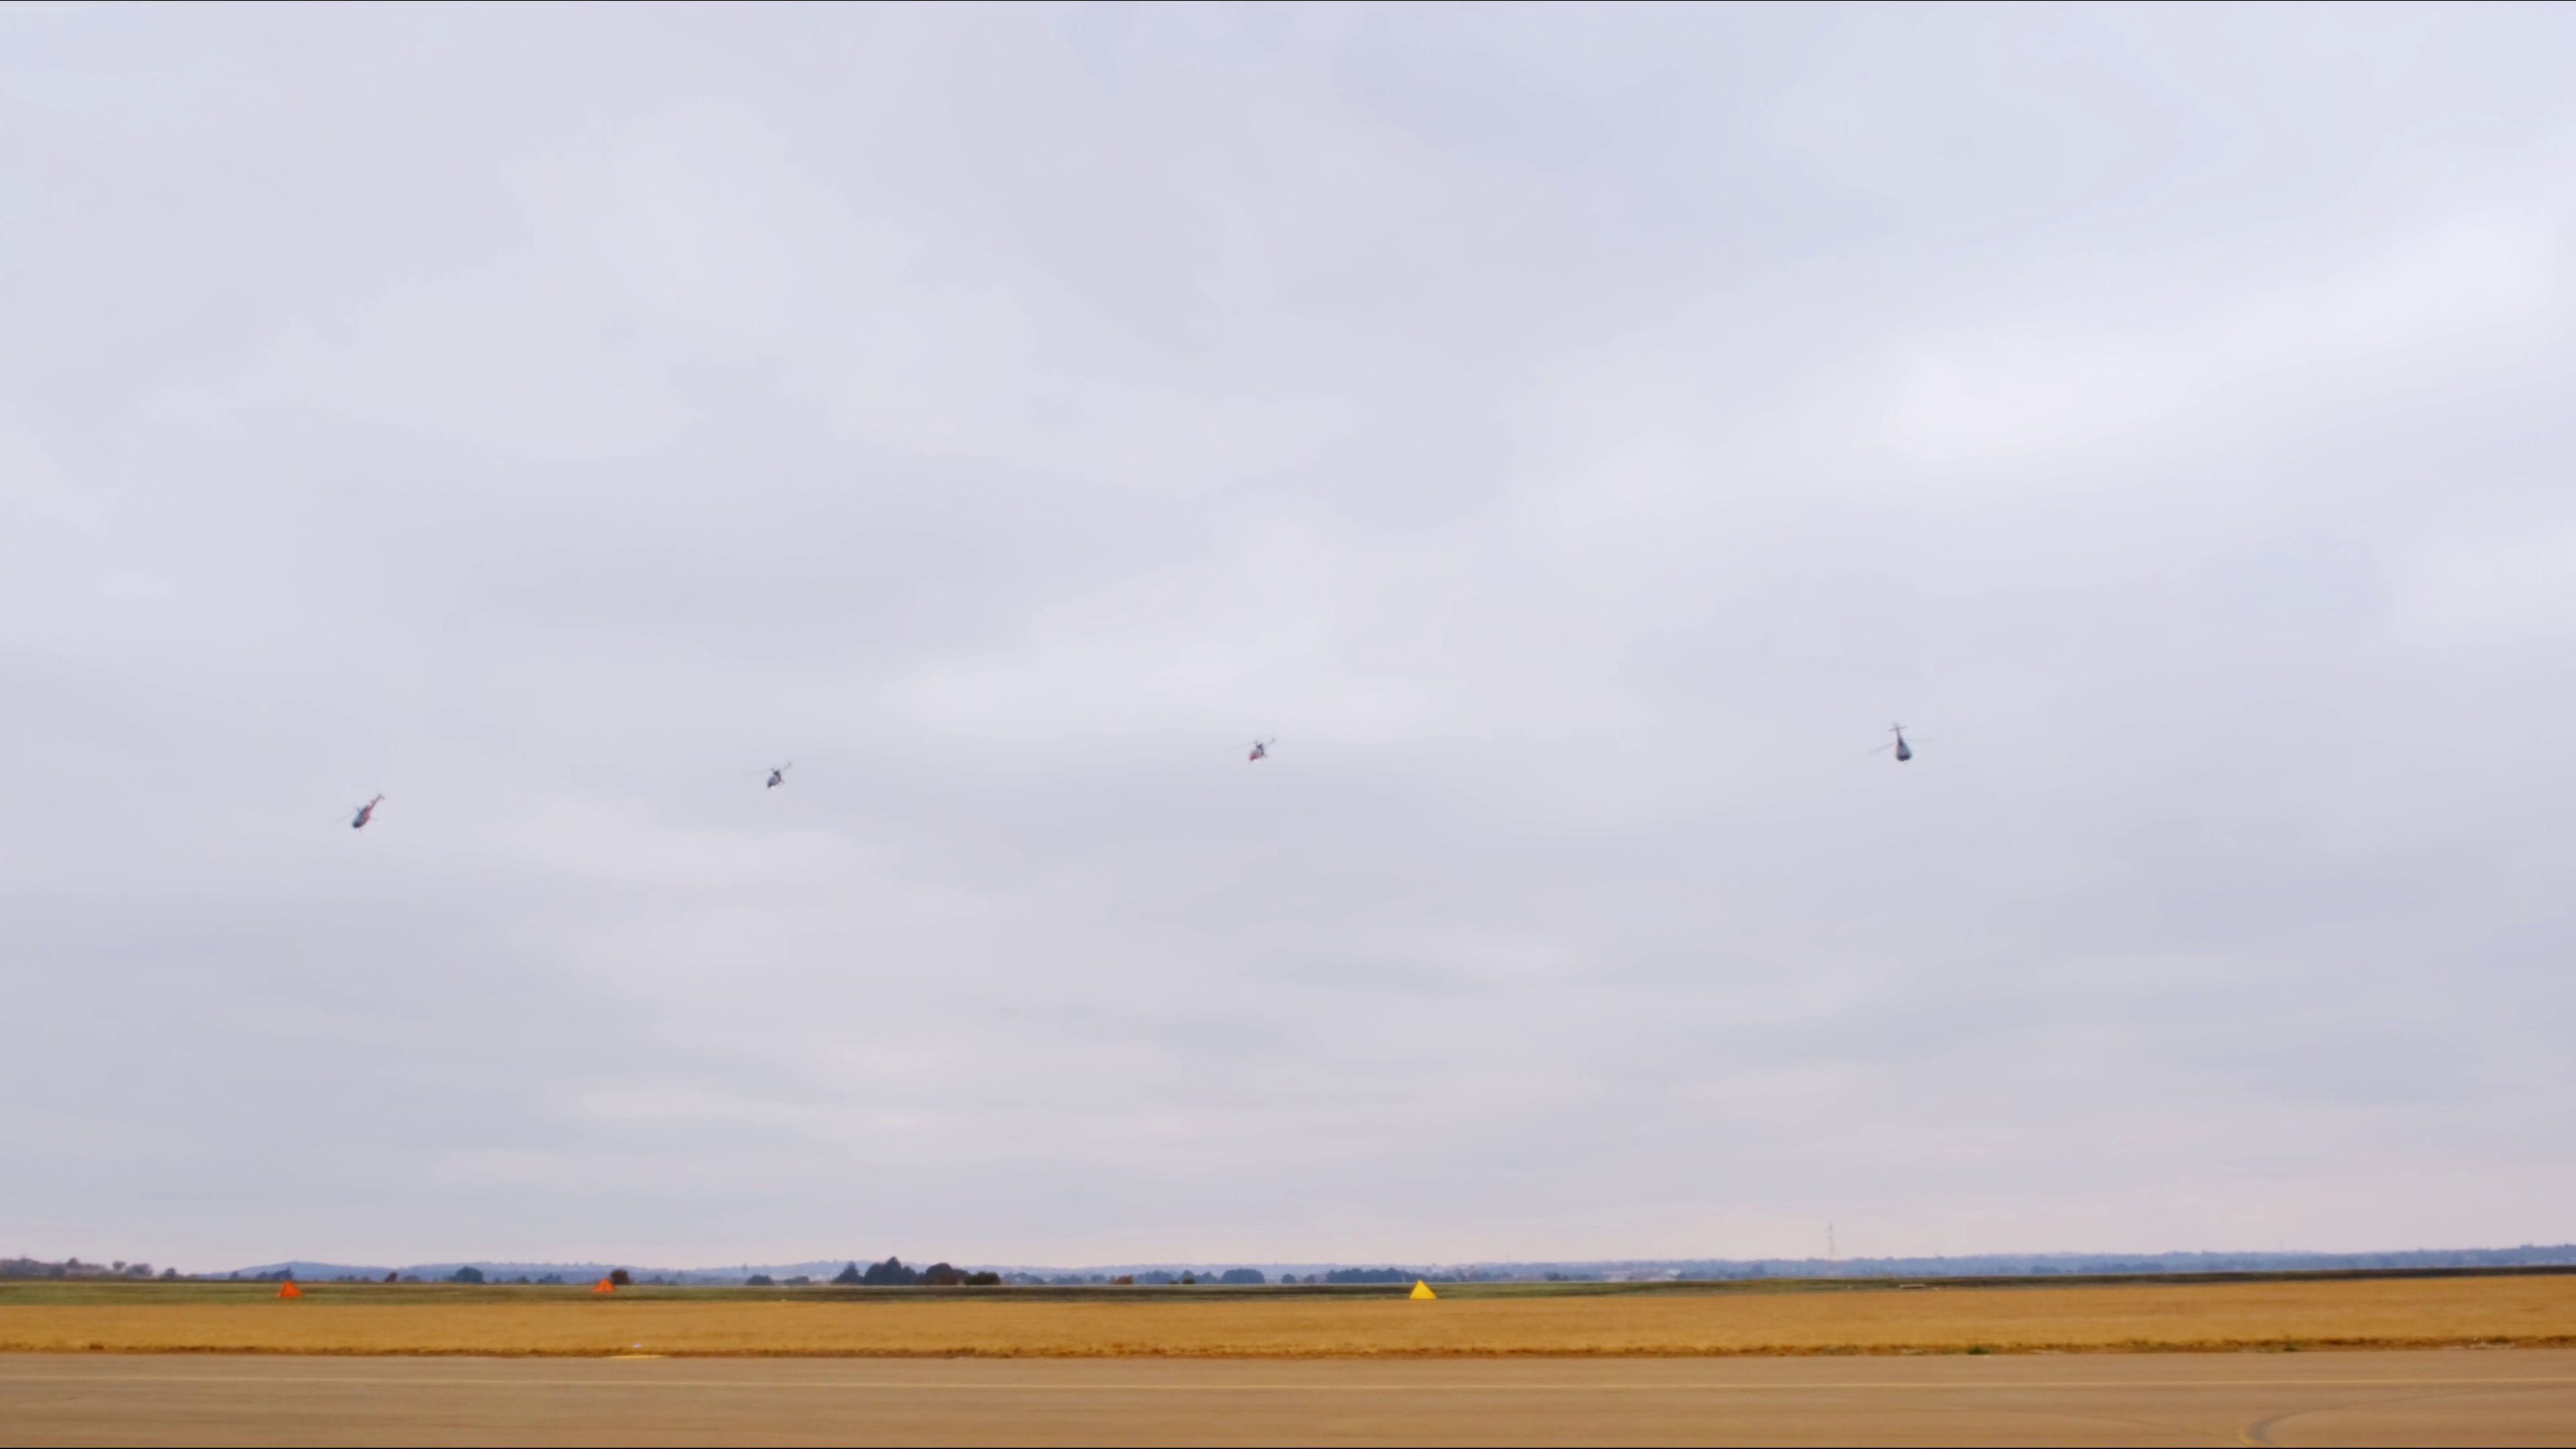heli: (1877, 722, 1927, 764), (347, 794, 386, 832), (761, 759, 794, 793), (1249, 738, 1276, 768)
